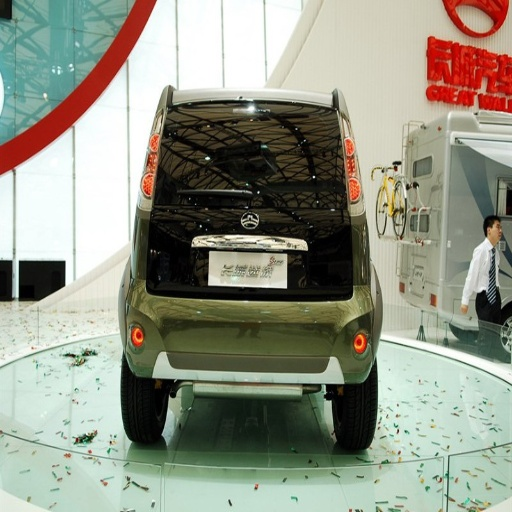back_bumper: (132, 295, 230, 383), (331, 288, 374, 369)
tailgate: (231, 252, 338, 301)
trunk: (151, 193, 341, 321)
